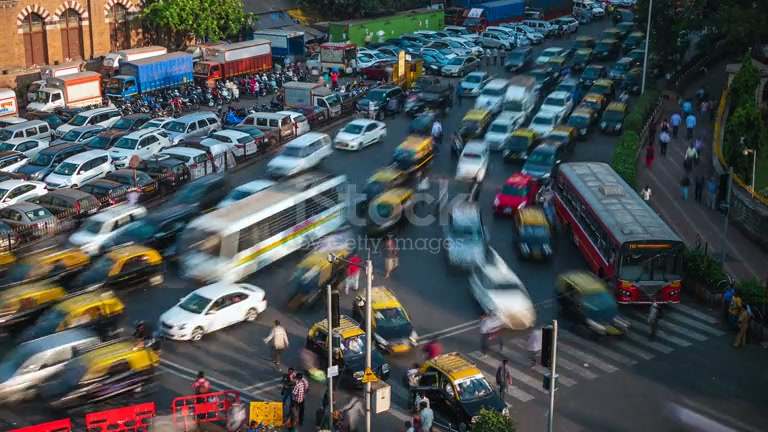bus: (172, 169, 351, 286), (551, 160, 686, 307), (192, 40, 273, 94)
car: (0, 327, 162, 423), (404, 351, 508, 425), (157, 280, 268, 343), (467, 244, 538, 332), (554, 270, 625, 339), (67, 200, 149, 254), (265, 130, 334, 180), (170, 390, 249, 432), (39, 148, 114, 190), (83, 169, 160, 206), (511, 203, 556, 263), (241, 110, 310, 147), (492, 172, 539, 218), (1, 202, 57, 240), (156, 144, 213, 181), (333, 118, 388, 152), (207, 127, 260, 159), (455, 139, 491, 183)
pedestrian: (264, 320, 289, 370), (290, 373, 309, 429), (733, 301, 752, 348), (191, 370, 211, 395), (419, 399, 434, 431), (657, 125, 671, 156)
